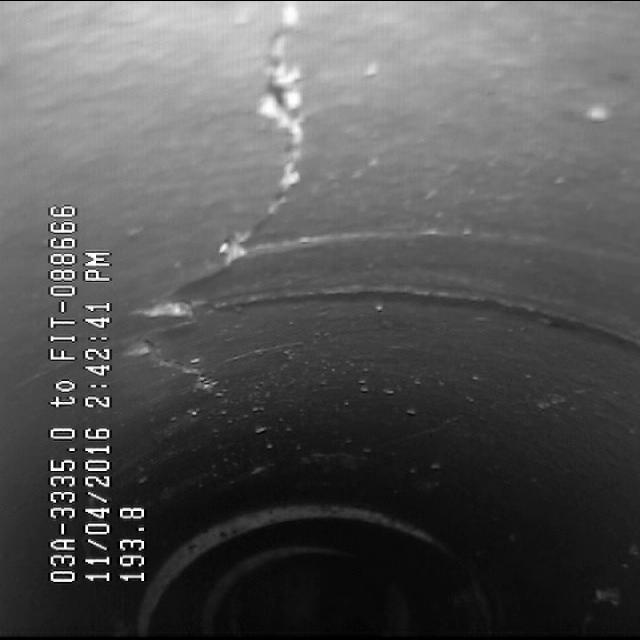Crack: (153, 24, 310, 392)
